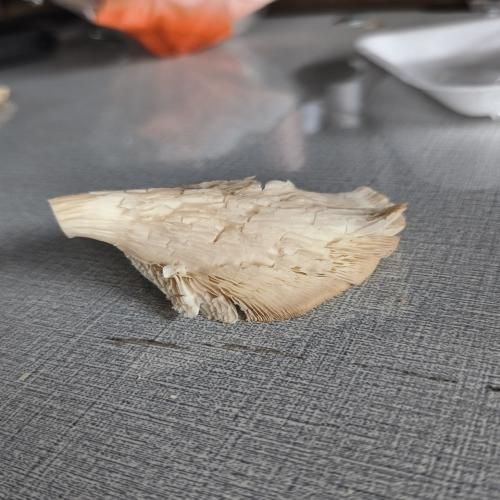Oyster Mushroom: (49, 172, 410, 329)
